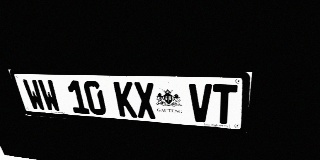0: (82, 81, 107, 115)
1: (65, 80, 90, 114)
K: (113, 81, 137, 118)
T: (212, 84, 238, 125)
V: (189, 83, 212, 123)
W: (21, 79, 47, 111), (37, 79, 62, 112)
X: (133, 82, 157, 119)
